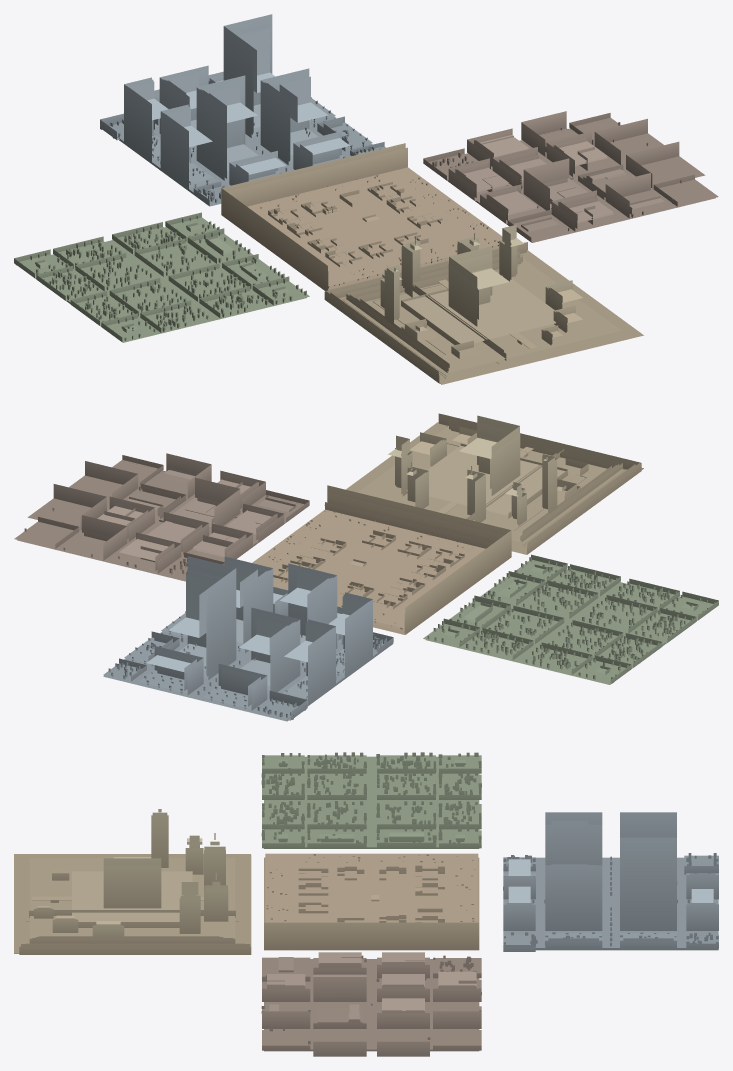
The model's file is world-shell.glb.
The picture shows the model from 3 angles, top to bottom: view 1: azimuth 30°, elevation 25°; view 2: azimuth 150°, elevation 25°; view 3: azimuth 270°, elevation 25°; orthographic projection.
Parts seen in each view (by area): view 1: shell_halo, shell_glassq, shell_bazaar, shell_foundry, shell_terraces; view 2: shell_glassq, shell_foundry, shell_halo, shell_terraces, shell_bazaar; view 3: shell_glassq, shell_halo, shell_foundry, shell_bazaar, shell_terraces.
Boxes of the visible parts, <box> form: shell_halo: <box>324,224,643,384</box>; shell_glassq: <box>100,14,385,206</box>; shell_bazaar: <box>221,143,502,290</box>; shell_foundry: <box>423,111,718,242</box>; shell_terraces: <box>14,212,309,342</box>; shell_glassq: <box>103,556,393,721</box>; shell_foundry: <box>14,453,309,581</box>; shell_halo: <box>324,413,643,554</box>; shell_terraces: <box>423,554,718,684</box>; shell_bazaar: <box>252,485,511,634</box>; shell_glassq: <box>503,812,718,951</box>; shell_halo: <box>14,809,251,954</box>; shell_foundry: <box>261,952,481,1056</box>; shell_bazaar: <box>264,853,479,950</box>; shell_terraces: <box>261,752,481,848</box>.
Size of the model in its own units: 1192 by 175 by 1178.
